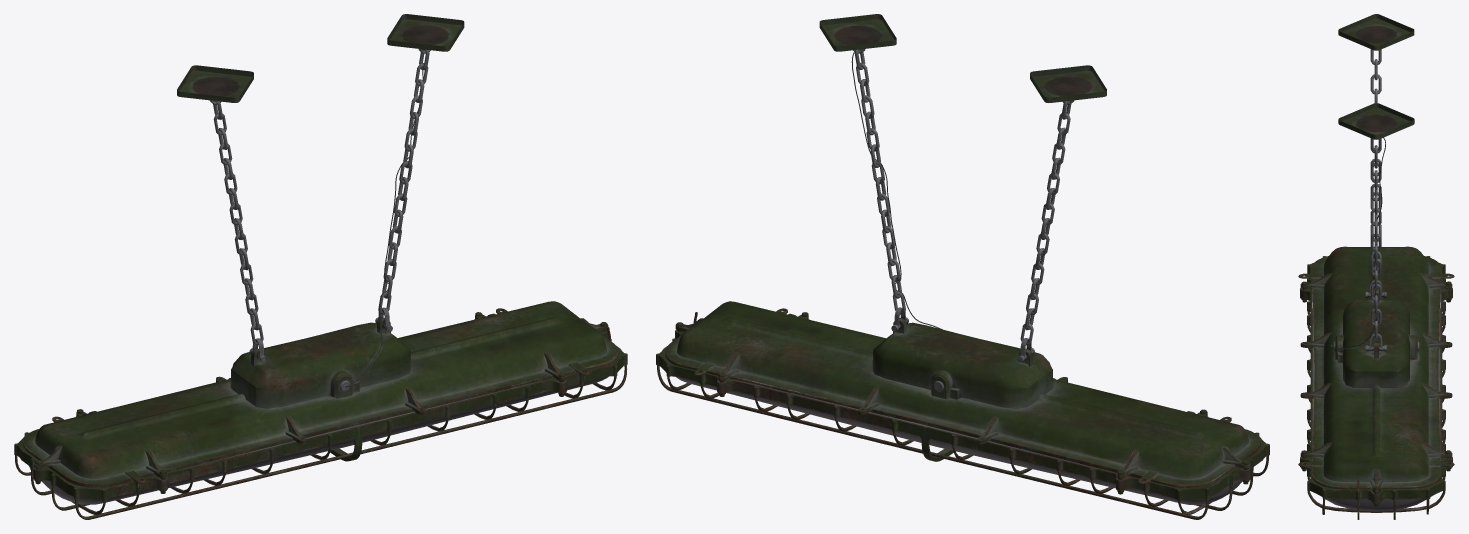
Rendered from caged_hanging_light.glb.
3 renders of one model, left to right at view 1: azimuth 30°, elevation 25°; view 2: azimuth 150°, elevation 25°; view 3: azimuth 270°, elevation 25°, orthographic. The views are drawn at different scales.
Visible parts, largest first — view 1: caged_hanging_light; view 2: caged_hanging_light; view 3: caged_hanging_light.
Boxes of the visible parts, bbox=[...] form: caged_hanging_light: bbox=[14, 14, 627, 519]; caged_hanging_light: bbox=[656, 14, 1269, 519]; caged_hanging_light: bbox=[1298, 14, 1454, 519].
Size of the model in its own units: 1.16 by 0.7501 by 0.3149.
1 material, 1 textured.
